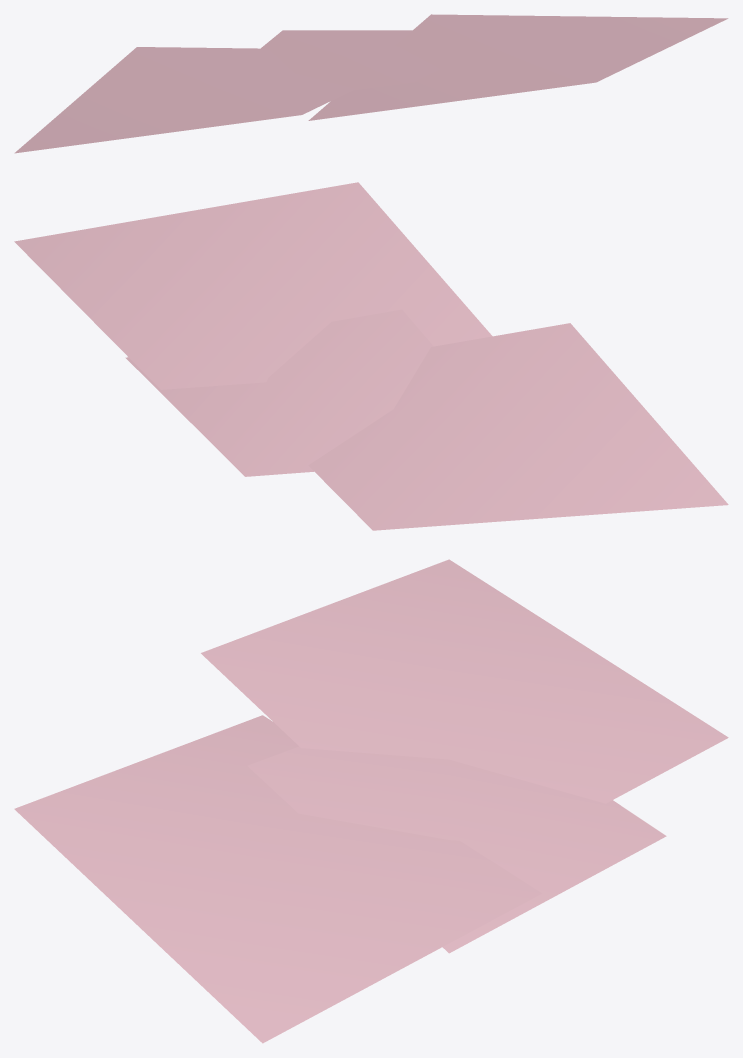
The model's file is petal-kit.mobile.glb.
3 renders of one model, top to bottom at view 1: azimuth 30°, elevation 25°; view 2: azimuth 150°, elevation 25°; view 3: azimuth 270°, elevation 25°, orthographic. The views are drawn at different scales.
Parts seen in each view (by area): view 1: SA_G12_MESH_62, SA_G12_MESH_61; view 2: SA_G12_MESH_62, SA_G12_MESH_61; view 3: SA_G12_MESH_62, SA_G12_MESH_61.
Part boxes in pixels (x1,y1,x2,y2): SA_G12_MESH_62: (14,14,728,153); SA_G12_MESH_61: (261,30,440,89); SA_G12_MESH_62: (14,182,728,530); SA_G12_MESH_61: (125,309,433,476); SA_G12_MESH_62: (14,559,728,1043); SA_G12_MESH_61: (247,746,666,953).
Size of the model in its own units: 0.078 by 0.008 by 0.046.
